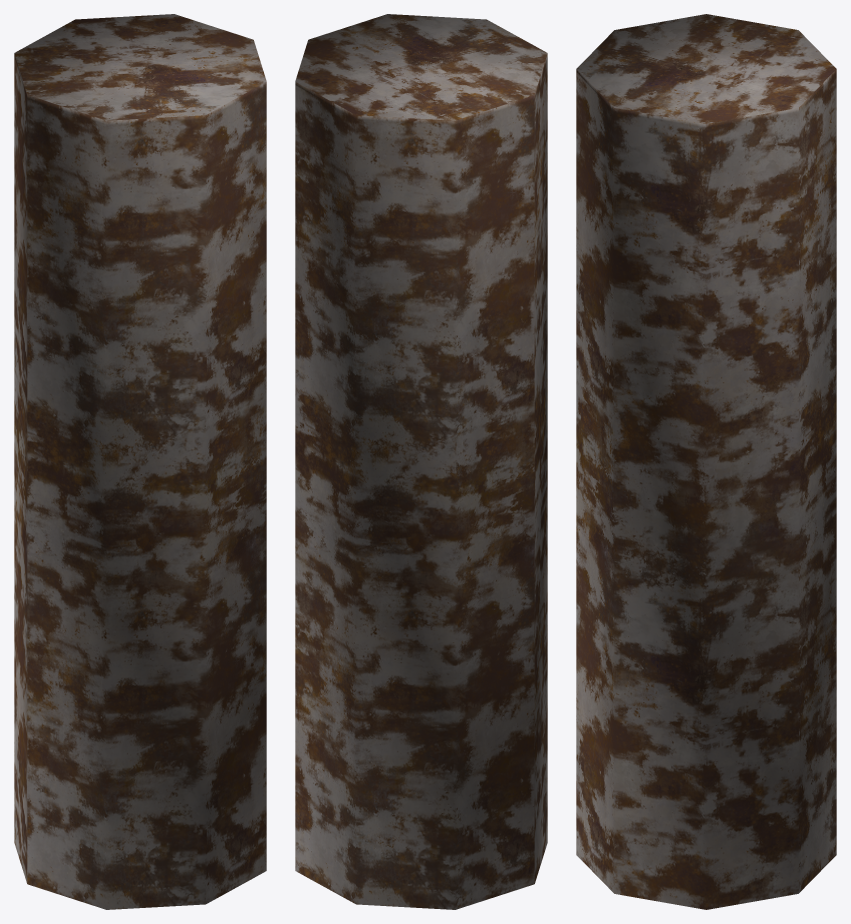
The model's file is Turret_Support.fbx.
The picture shows the model from 3 angles, left to right: view 1: azimuth 30°, elevation 25°; view 2: azimuth 150°, elevation 25°; view 3: azimuth 270°, elevation 25°; orthographic projection.
Parts seen in each view (by area): view 1: Turret_Support_SM; view 2: Turret_Support_SM; view 3: Turret_Support_SM.
Boxes of the visible parts, x1,y1,x2,y2 form: Turret_Support_SM: (14, 14, 266, 909); Turret_Support_SM: (295, 14, 547, 909); Turret_Support_SM: (576, 14, 836, 909).
Size of the model in its own units: 0.1142 by 0.3804 by 0.1142.
Materials: 1 (1 with a texture image).
